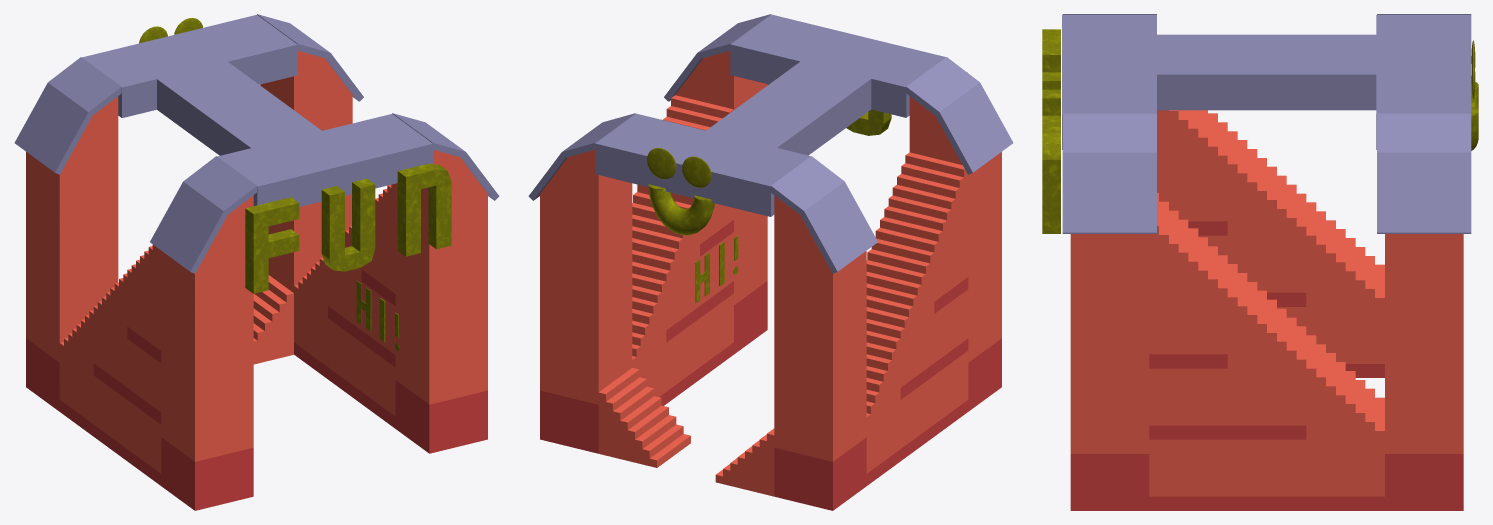
Rendered from game.glb.
3 renders of one model, left to right at view 1: azimuth 30°, elevation 25°; view 2: azimuth 150°, elevation 25°; view 3: azimuth 270°, elevation 25°, orthographic. The views are drawn at different scales.
Parts seen in each view (by area): view 1: mergedBlocks(Clone); view 2: mergedBlocks(Clone); view 3: mergedBlocks(Clone).
Boxes of the visible parts, x1,y1,x2,y2 form: mergedBlocks(Clone): (14,14,499,510); mergedBlocks(Clone): (528,14,1013,510); mergedBlocks(Clone): (1042,14,1478,510).
Size of the model in its own units: 5.28 by 5.3 by 5.55.
5 materials, 1 textured.
